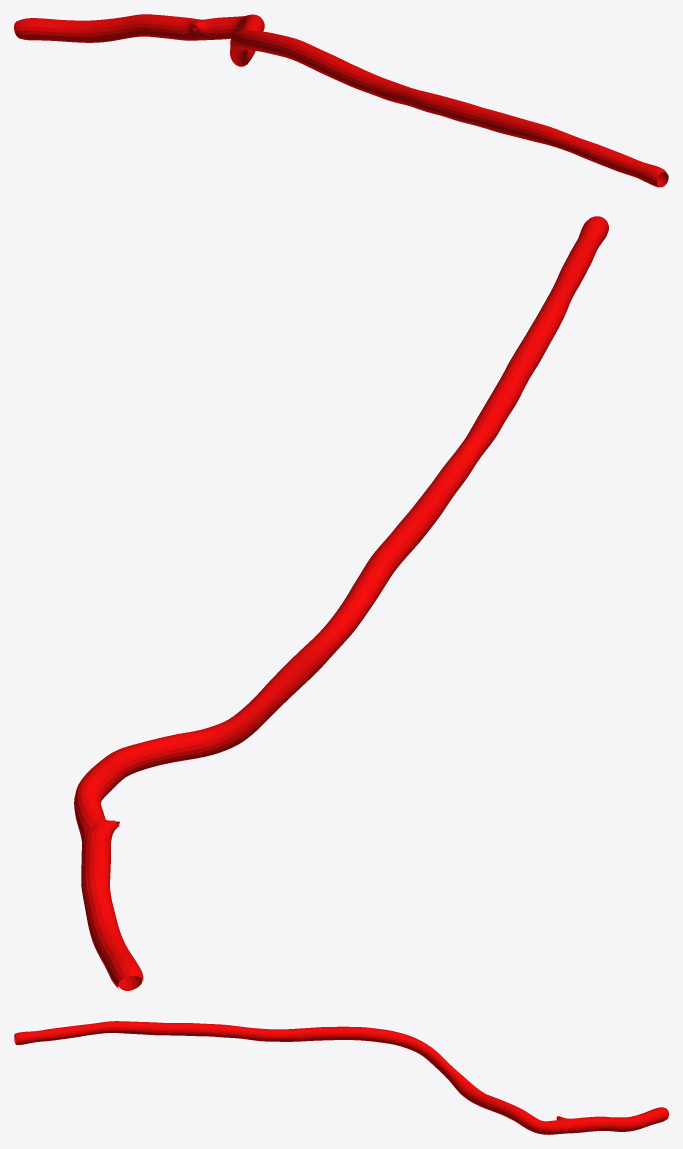
File: frau2-714.glb
3 views of the same model, one above another, from view 1: azimuth 30°, elevation 25°; view 2: azimuth 150°, elevation 25°; view 3: azimuth 270°, elevation 25° (orthographic). The views are drawn at different scales.
Parts seen in each view (by area): view 1: VH_F_opthalmic_artery_L; view 2: VH_F_opthalmic_artery_L; view 3: VH_F_opthalmic_artery_L.
Part boxes in pixels (x1=…): VH_F_opthalmic_artery_L: x1=14, y1=14, x2=668, y2=187; VH_F_opthalmic_artery_L: x1=74, y1=216, x2=608, y2=990; VH_F_opthalmic_artery_L: x1=14, y1=1021, x2=668, y2=1134.
Bounding box in the file's own units: 0.00861 × 0.0107 × 0.0488.
